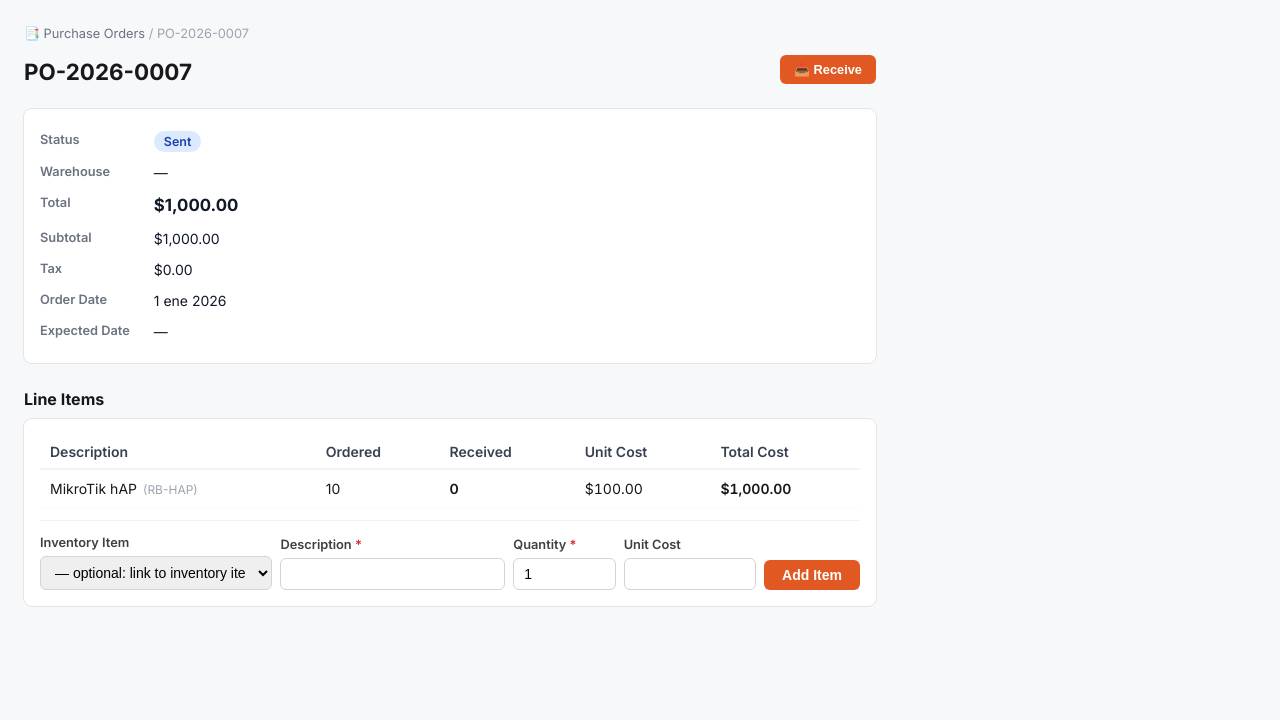
PurchaseOrderDetail page › Receive defaults each line to its full remaining quantity and posts items[]
This screenshot has width=1280, height=720.
Step 1. Click the button "📥 Receive" → point(828, 70), box [780, 55, 876, 84]
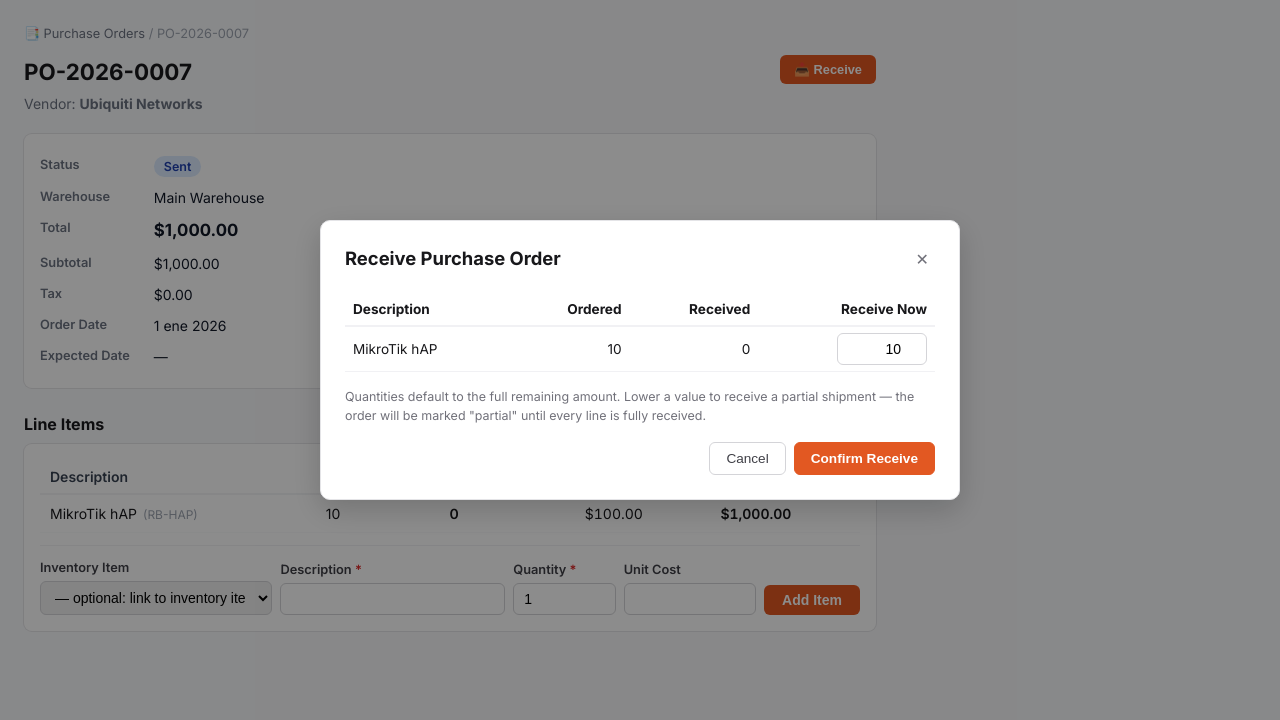
Expected: the number field holds "10", [837, 333, 927, 365]
Step 2. Click the button "Confirm Receive" → point(864, 458), box [794, 442, 935, 475]
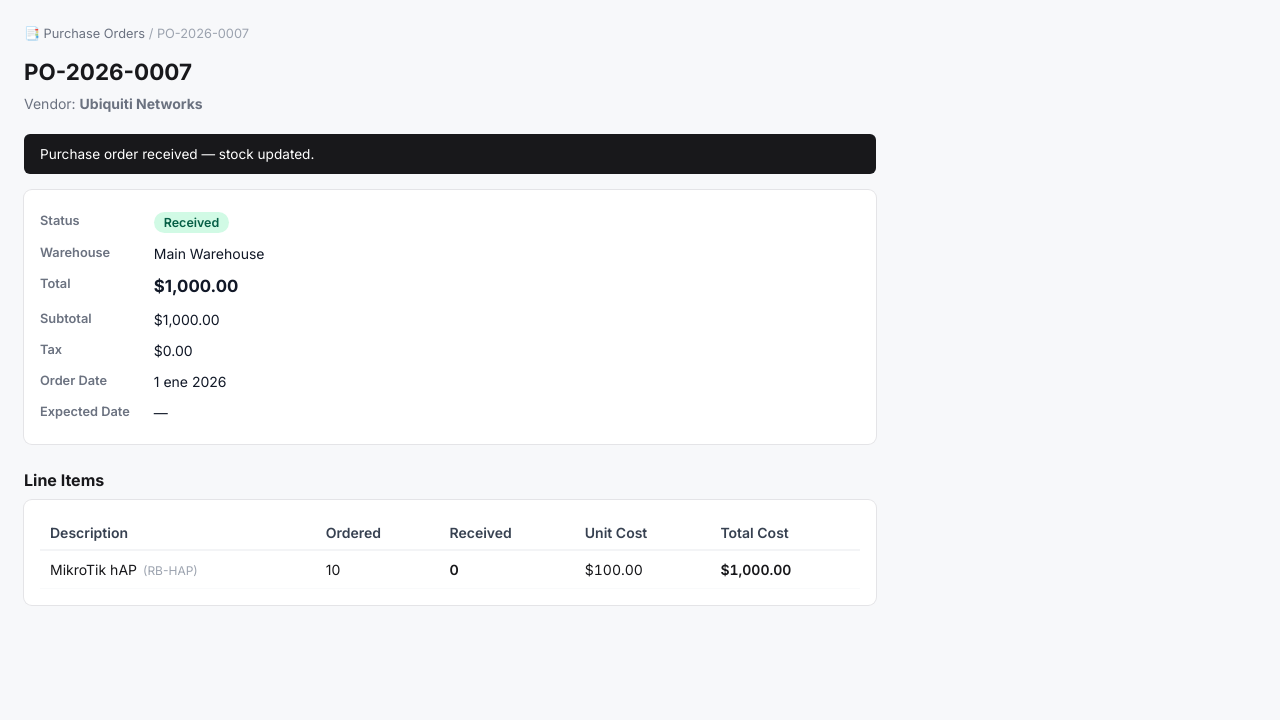
Expected: the text "Purchase order received — stock updated." is shown, [24, 134, 876, 174]
